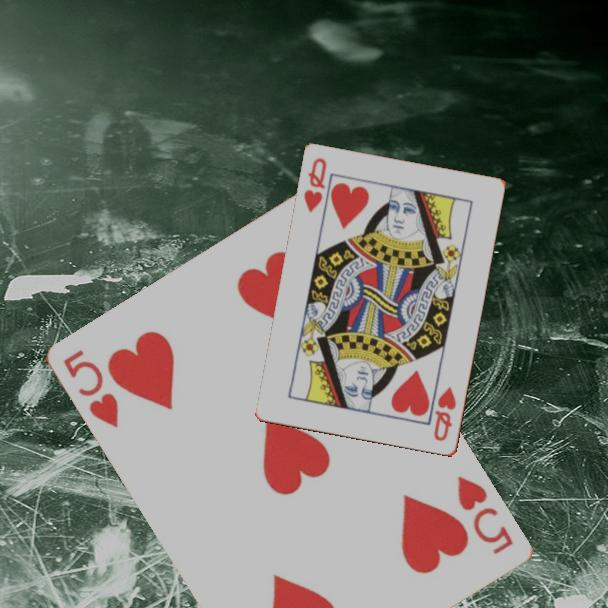h05: (454, 472, 517, 558), (60, 346, 123, 431)
h12: (430, 383, 459, 444), (301, 155, 330, 216)
